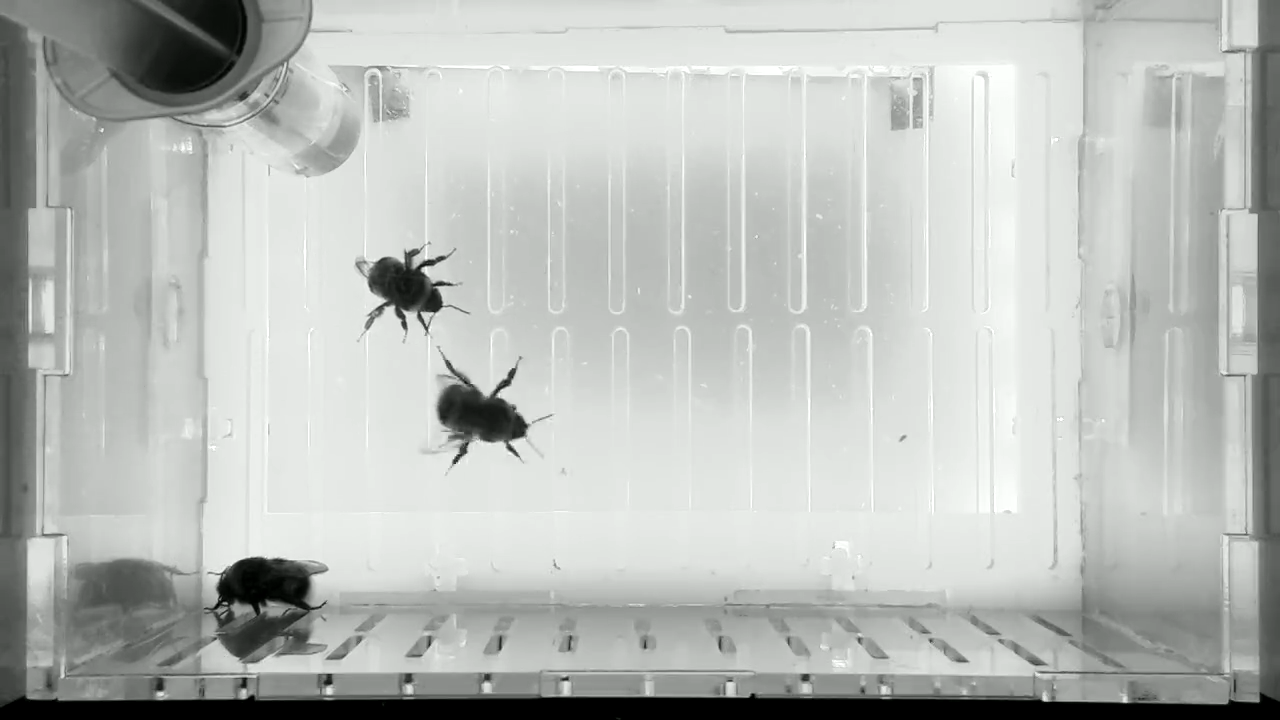bee_alive: (417, 340, 555, 476), (356, 237, 482, 343), (204, 554, 335, 616)
feeder: (212, 37, 366, 186)
